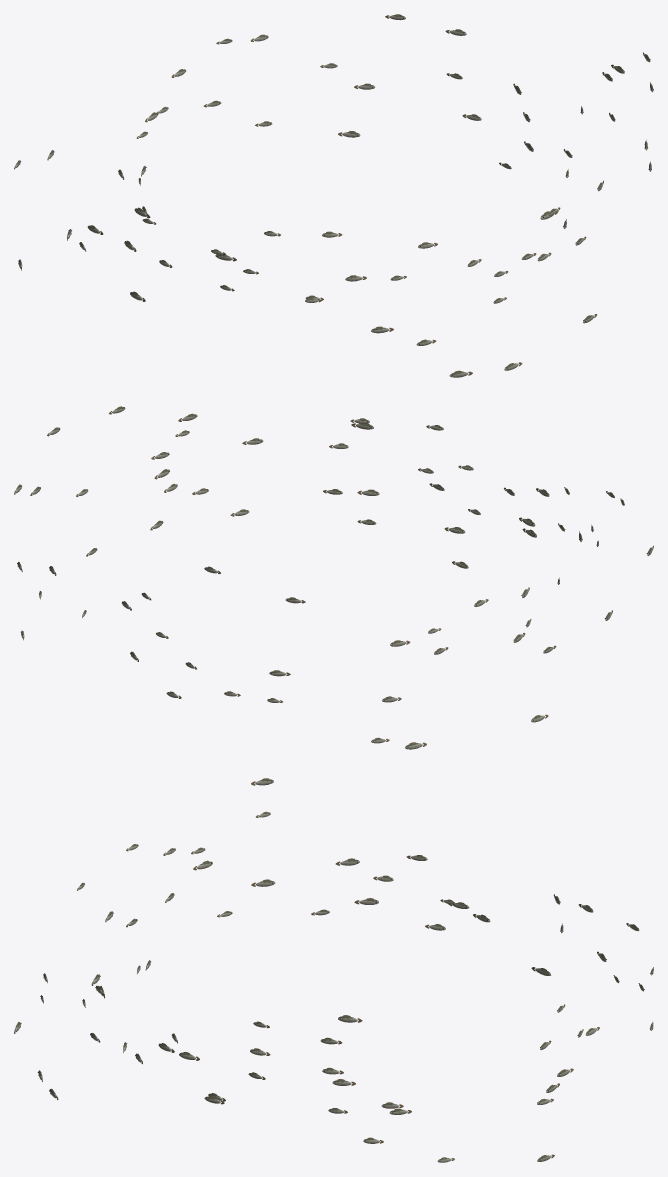
Rendered from lb_fish_school.fbx.
3 renders of one model, top to bottom at view 1: azimuth 30°, elevation 25°; view 2: azimuth 150°, elevation 25°; view 3: azimuth 270°, elevation 25°, orthographic. The views are drawn at different scales.
Visible parts, largest first — view 1: lb_fish_school; view 2: lb_fish_school; view 3: lb_fish_school.
Part boxes in pixels (x1,y1,x2,y2): lb_fish_school: [14, 14, 653, 377]; lb_fish_school: [14, 406, 653, 749]; lb_fish_school: [14, 778, 653, 1162].
Size of the model in its own units: 645 by 155 by 582.
